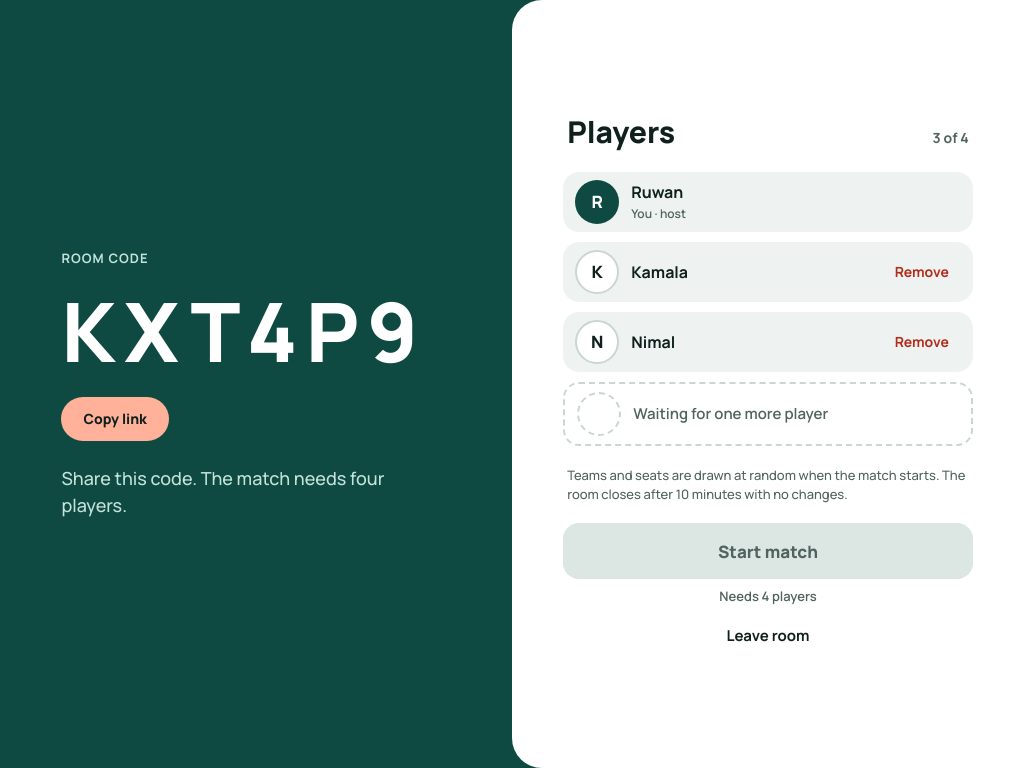
Test: LobbyScreen › says so when the link cannot be copied
Click the button "Copy link".
click(115, 419)  # box [61,397,169,441]
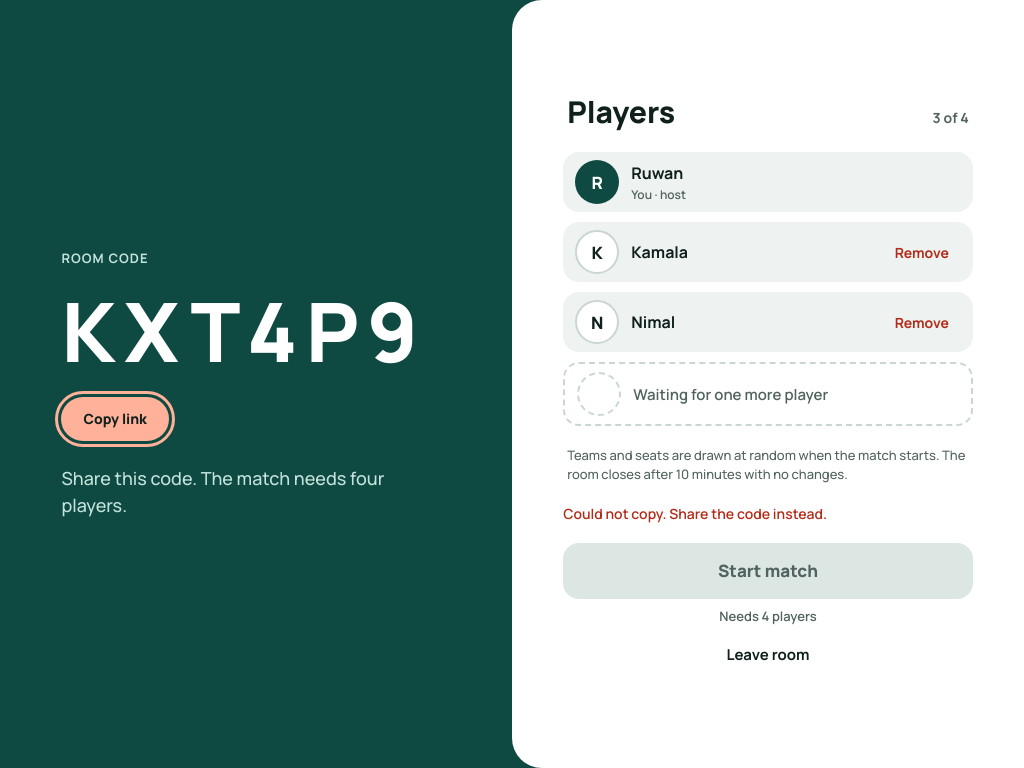
Now the message shows "Could not copy", box [563,504,827,523]
